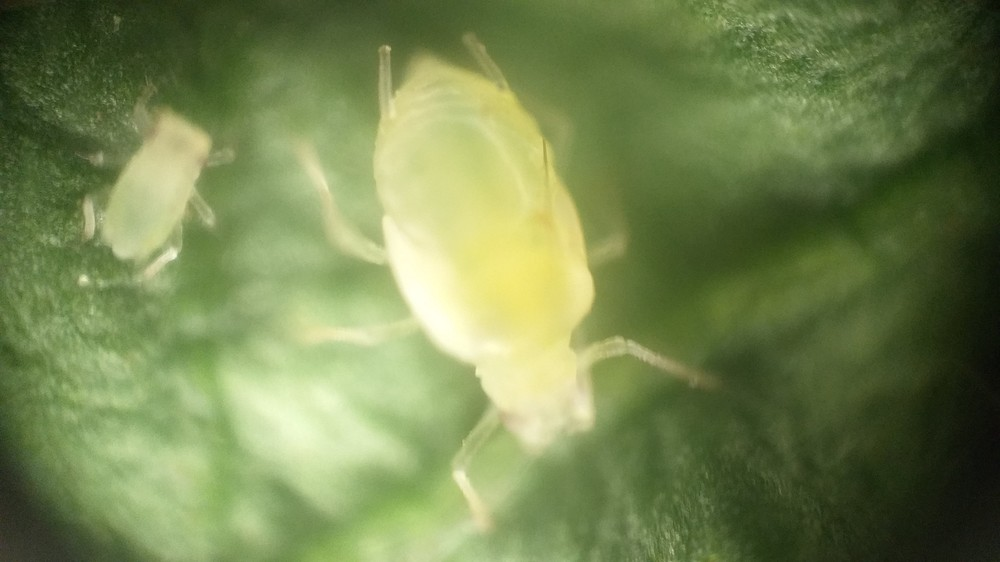Pulgon: (291, 41, 779, 526), (64, 76, 249, 308)
